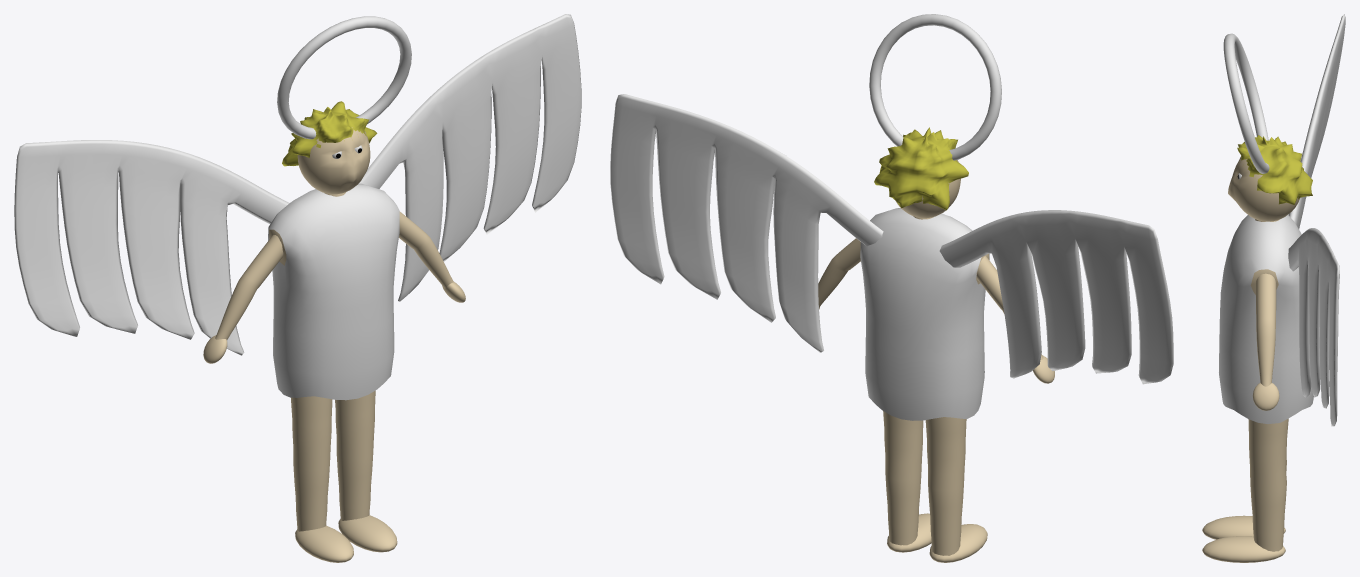
The model's file is Angel.fbx.
The picture shows the model from 3 angles, left to right: view 1: azimuth 30°, elevation 25°; view 2: azimuth 150°, elevation 25°; view 3: azimuth 270°, elevation 25°; orthographic projection. The views are drawn at different scales.
Parts seen in each view (by area): view 1: pCube3, pCube2, pCube4, pCylinder2, pCylinder1, pTorus1, pSphere6, pSphere7, pCylinder4, pSphere4, pSphere3, pCylinder3; view 2: pCube2, pCube3, pCube4, pSphere7, pCylinder2, pCylinder1, pTorus1, pCylinder3, pSphere4, pCylinder4, pSphere6, pSphere3; view 3: pCube4, pCube2, pCylinder1, pSphere7, pTorus1, pCube3, pSphere6, pCylinder3, pSphere3, pSphere4, pSphere1, pCube1.
Part boxes in pixels (x1,y1,x2,y2): pCube3: (14,140,289,355); pCube2: (359,14,581,301); pCube4: (268,183,399,400); pCylinder2: (291,396,332,531); pCylinder1: (335,390,375,520); pTorus1: (277,16,411,139); pSphere6: (297,127,370,194); pSphere7: (282,101,377,166); pCylinder4: (215,235,283,339); pSphere4: (295,525,353,562); pSphere3: (338,515,397,552); pCylinder3: (399,211,453,288); pCube2: (610,94,883,352); pCube3: (939,210,1173,384); pCube4: (860,208,989,420); pSphere7: (874,127,968,210); pCylinder2: (925,417,966,555); pCylinder1: (883,411,923,545); pTorus1: (869,14,1001,160); pCylinder3: (818,238,860,307); pSphere4: (929,524,987,562); pCylinder4: (976,256,1043,359); pSphere6: (896,160,960,218); pSphere3: (887,513,931,552); pCube4: (1219,215,1313,423); pCube2: (1288,228,1339,426); pCylinder1: (1248,418,1288,551); pSphere7: (1237,135,1312,204); pTorus1: (1223,33,1269,173); pCube3: (1288,14,1345,228); pSphere6: (1228,157,1299,221); pCylinder3: (1256,273,1276,386); pSphere3: (1202,536,1285,562); pSphere4: (1202,515,1285,539); pSphere1: (1252,383,1279,410); pCube1: (1250,269,1278,294).
Bounding box in the file's own units: 9.35 × 8.37 × 2.15.
